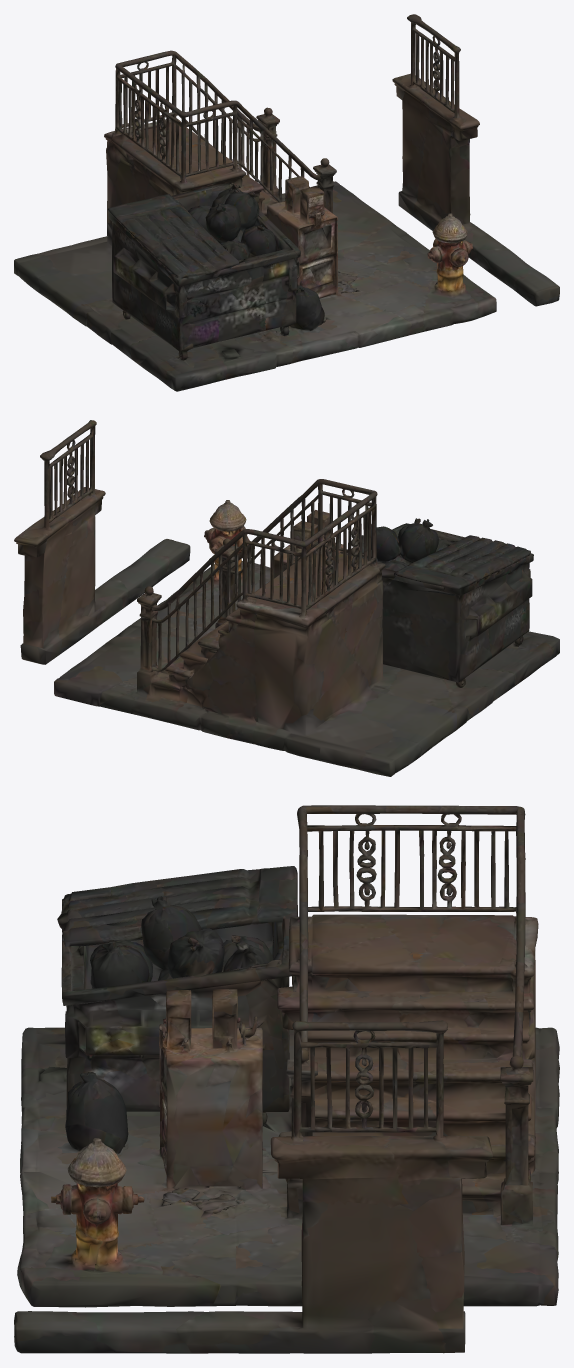
File: dumpster.glb
3 renders of one model, top to bottom at view 1: azimuth 30°, elevation 25°; view 2: azimuth 150°, elevation 25°; view 3: azimuth 270°, elevation 25°, orthographic. The views are drawn at different scales.
Parts seen in each view (by area): view 1: mesh_node; view 2: mesh_node; view 3: mesh_node.
Boxes of the visible parts, bbox=[...] form: mesh_node: bbox=[14, 14, 559, 391]; mesh_node: bbox=[14, 420, 559, 776]; mesh_node: bbox=[14, 805, 559, 1353].
Size of the model in its own units: 3.7 by 1.8 by 2.79.
1 material, 1 textured.
